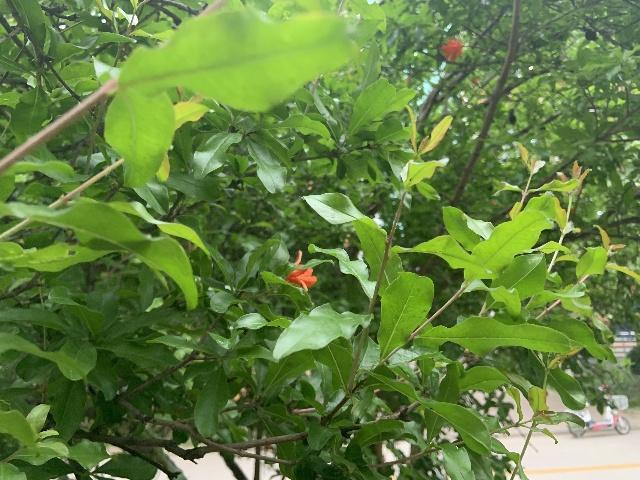flower: (284, 250, 317, 291), (440, 38, 464, 62)
